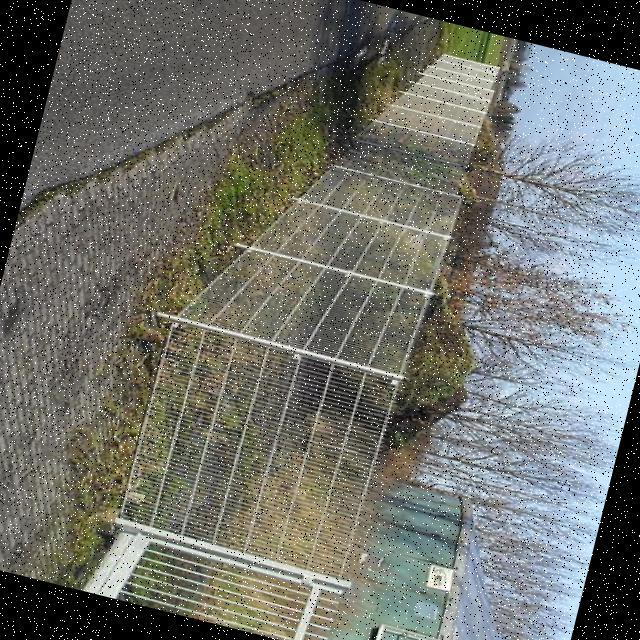fence line: (77, 291, 400, 581), (143, 136, 452, 379), (34, 484, 345, 639), (302, 14, 511, 234)
